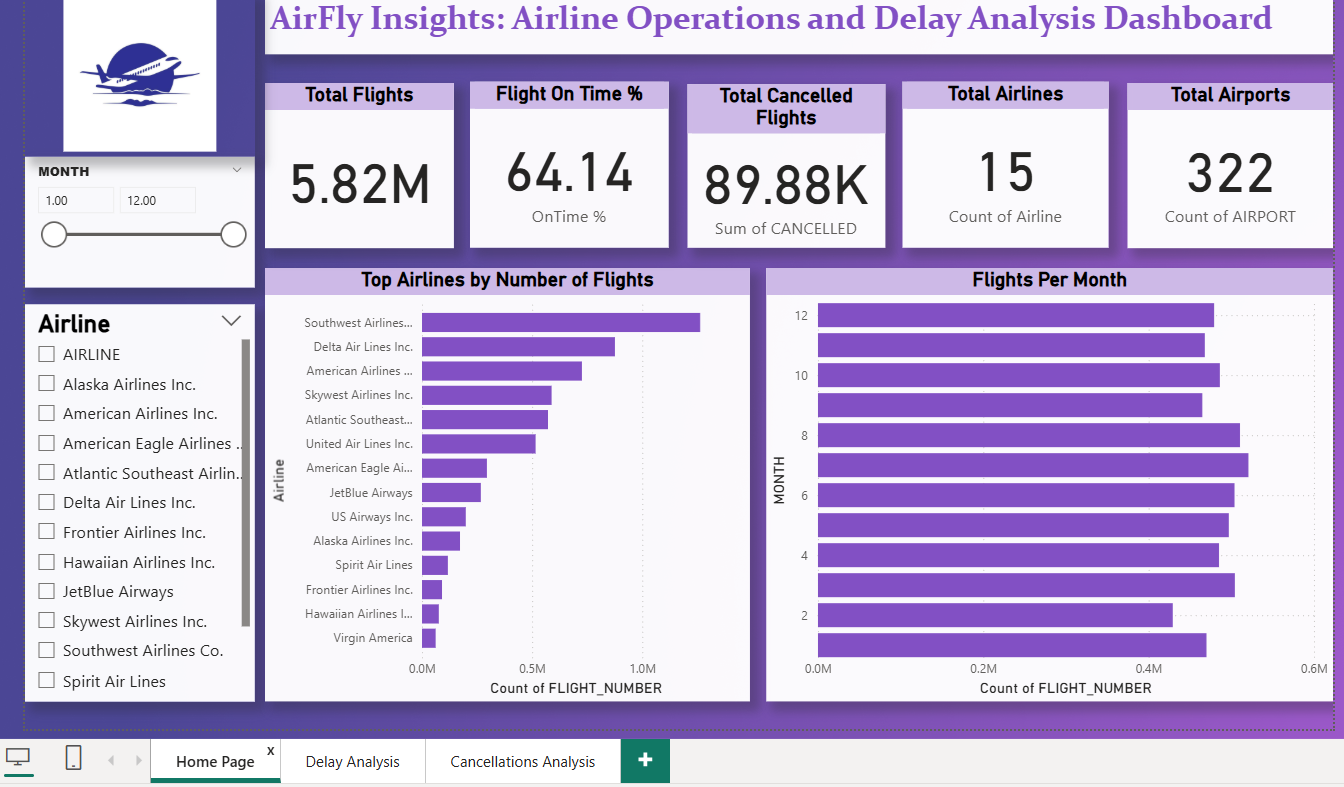

This screenshot's page, from the dashboard's own definition file:
{"tool":"powerbi","page":{"name":"Home Page","canvas":[1280,720],"ordinal":0},"visuals":[{"type":"slicer","fields":{"Values":["flights.MONTH"]},"box":[0,160.2,225,128.4],"z":0},{"type":"slicer","fields":{"Values":["airlines.Airline"]},"box":[0,304.5,225,388.9],"z":1000},{"type":"clusteredBarChart","title":"Top Airlines by Number of Flights","fields":{"Category":["airlines.Airline"],"Y":["CountNonNull(flights.FLIGHT_NUMBER)"]},"box":[234.8,269,474.5,424.3],"z":2000},{"type":"card","title":"Total Flights","fields":{"Values":["CountNonNull(flights.FLIGHT_NUMBER)"]},"box":[234.8,88,184.6,161.4],"z":3000},{"type":"textbox","box":[235,0,1045,60],"z":4000},{"type":"card","title":"Flight On Time %","fields":{"Values":["flights.OnTime %"]},"box":[435.3,86.8,194.4,162.6],"z":5000},{"type":"card","title":"Total Cancelled Flights","fields":{"Values":["Sum(flights.CANCELLED)"]},"box":[648.1,89.3,193.2,160.2],"z":6000},{"type":"image","box":[0,0,225,160.2],"z":7000},{"type":"card","title":"Total Airlines","fields":{"Values":["Count(airlines.Airline)"]},"box":[858.4,86.8,201.8,162.6],"z":8000},{"type":"card","title":"Total Airports","fields":{"Values":["CountNonNull(airports.AIRPORT)"]},"box":[1078.5,88,201.8,161.4],"z":9000},{"type":"clusteredBarChart","title":"Flights Per Month","fields":{"Category":["flights.MONTH"],"Y":["CountNonNull(flights.FLIGHT_NUMBER)"]},"box":[725,268.8,555,423.8],"z":10000}]}

Visuals, with their boxes on the page's 1280x720 design canvas (x1, y1, x2, y2). These are canvas units, not pixel positions in the 1344x787 screenshot, which may show the page scaled, cropped or inside an application window:
slicer - flights.MONTH: select_region(0, 160, 225, 289)
slicer - airlines.Airline: select_region(0, 304, 225, 693)
"Top Airlines by Number of Flights" clusteredBarChart: select_region(235, 269, 709, 693)
"Total Flights" card: select_region(235, 88, 419, 249)
textbox: select_region(235, 0, 1280, 60)
"Flight On Time %" card: select_region(435, 87, 630, 249)
"Total Cancelled Flights" card: select_region(648, 89, 841, 250)
image: select_region(0, 0, 225, 160)
"Total Airlines" card: select_region(858, 87, 1060, 249)
"Total Airports" card: select_region(1078, 88, 1280, 249)
"Flights Per Month" clusteredBarChart: select_region(725, 269, 1280, 693)
